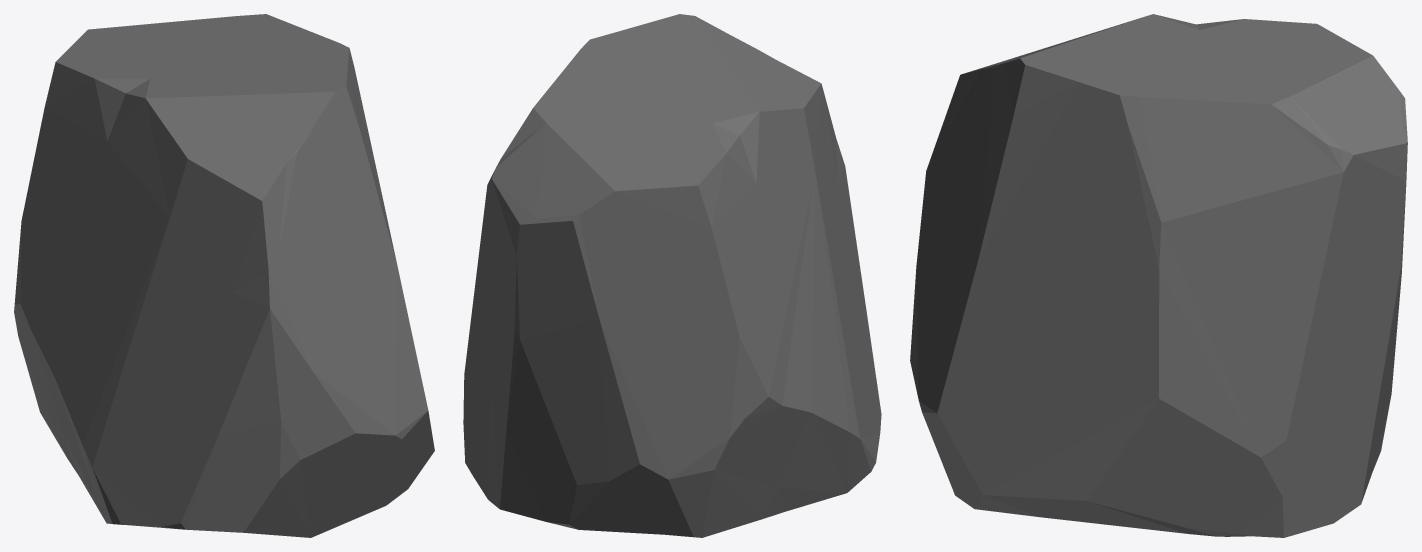
Rendered from SM_Gen_Env_Rock_10.glb.
3 views of the same model, side by side, from view 1: azimuth 30°, elevation 25°; view 2: azimuth 150°, elevation 25°; view 3: azimuth 270°, elevation 25° (orthographic). The views are drawn at different scales.
Visible parts, largest first — view 1: SM_Gen_Env_Rock_10; view 2: SM_Gen_Env_Rock_10; view 3: SM_Gen_Env_Rock_10.
Part boxes in pixels (bbox=[...]): SM_Gen_Env_Rock_10: bbox=[14, 14, 434, 537]; SM_Gen_Env_Rock_10: bbox=[463, 14, 881, 537]; SM_Gen_Env_Rock_10: bbox=[910, 14, 1407, 537].
Size of the model in its own units: 2.32 by 2.86 by 2.83.
1 material, 1 textured.
